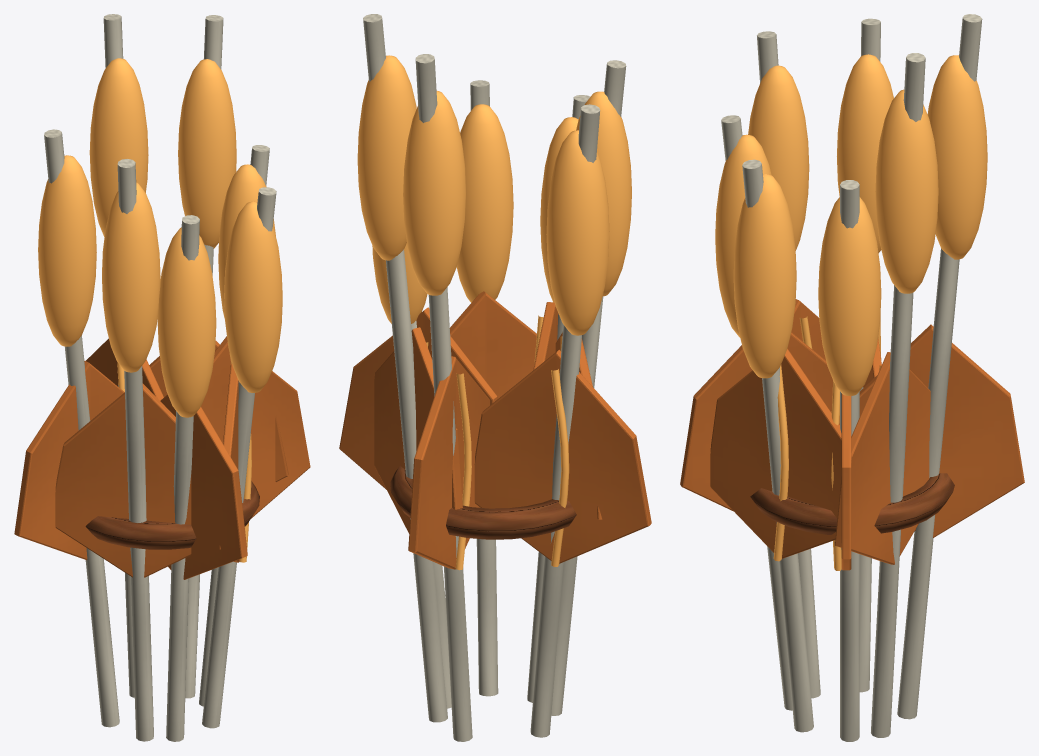
Rendered from hollowwick-halloween-bound-corn-sheaf-3401eebe__21601.glb.
The picture shows the model from 3 angles, left to right: view 1: azimuth 30°, elevation 25°; view 2: azimuth 150°, elevation 25°; view 3: azimuth 270°, elevation 25°; orthographic projection. The views are drawn at different scales.
Visible parts, largest first — view 1: bound-corn-sheaf; view 2: bound-corn-sheaf; view 3: bound-corn-sheaf.
Boxes of the visible parts, bbox=[...] form: bound-corn-sheaf: bbox=[14, 14, 310, 741]; bound-corn-sheaf: bbox=[339, 14, 651, 741]; bound-corn-sheaf: bbox=[680, 14, 1024, 741].
Bounding box in the file's own units: 0.4376 × 0.9422 × 0.4202.
Materials: 4 (3 with a texture image).
